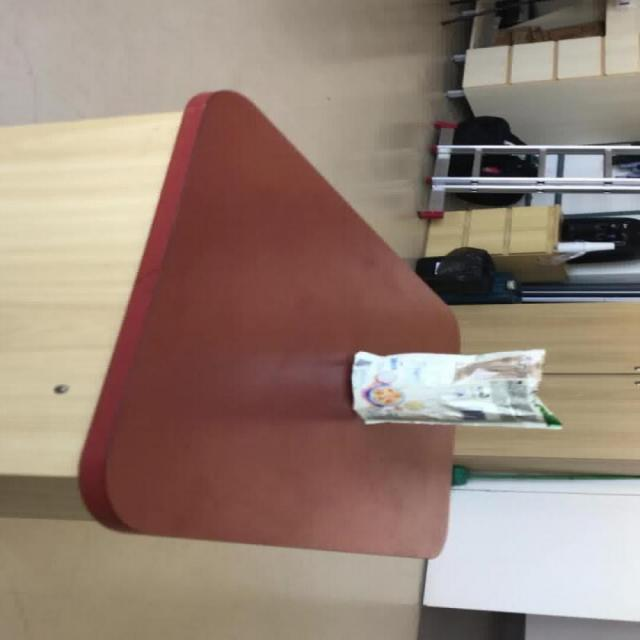CornFlakes: (349, 347, 561, 430)
